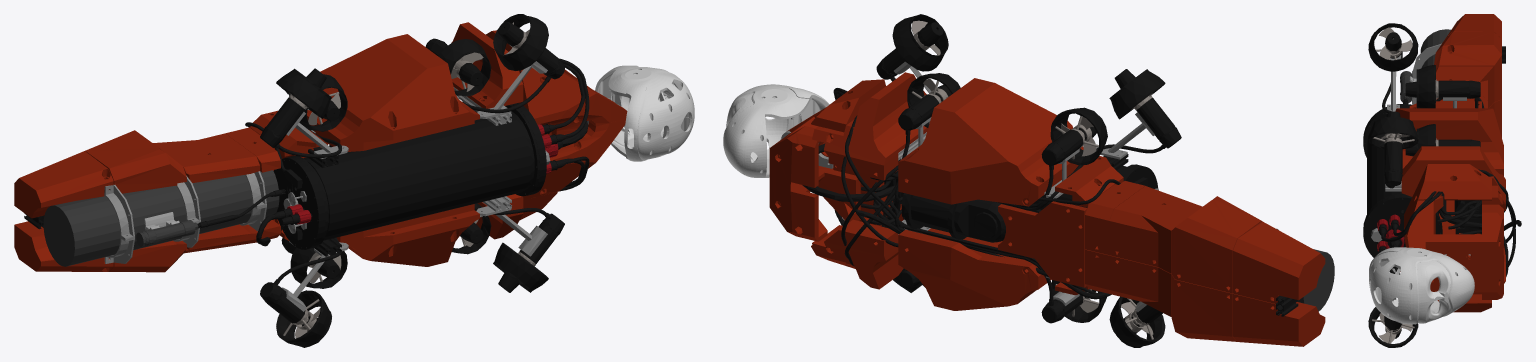
Rendered from body_paint_no_lamp.obj.
3 renders of one model, left to right at view 1: azimuth 30°, elevation 25°; view 2: azimuth 150°, elevation 25°; view 3: azimuth 270°, elevation 25°, orthographic. The views are drawn at different scales.
Visible parts, largest first — view 1: Robot_-_Prevco_Cylinder_Assembly_24-1_Prevco_Cylinder_24-1.001, Robot_-_Chassis-1_MirrorBody_foam_(mid-right-front-full-wit.000, Robot_-_Chassis-1_Battery_Asm-1_subCtech_Li_Ion_Battery-2.001, head.003_head.004, Robot_-_Chassis-1_Body_foam_(mid-right-front-full-with-btm).000, Robot_-_Chassis-1_MirrorTail_foam_(end-right)-3.001, Robot_-_Chassis-1_MirrorTail_foam_(mid-right)-2.001, Robot_-_Arm_frame-4_MirrorShoulder_foam_(top-right-mod)-2.001, Robot_-_Chassis-1_MirrorTail_foam_(front-right)-3.001, Robot_-_Prevco_Cylinder_Assembly_24-1_Prevco_Cylinder_Cap_B.004, Robot_-_Arm_frame-4_Shoulder_foam_(top-right-mod)-1.001, Robot_-_Chassis-1_MirrorBody_foam_(front-right-full)-2.001 (+23 smaller); view 2: Robot_-_Chassis-1_MirrorBody_foam_(mid-right-front-full-wit.000, Robot_-_Chassis-1_Body_foam_(mid-right-front-full-with-btm).000, head.003_head.004, Robot_-_Chassis-1_MirrorBody_foam_(front-right-full)-2.001, Robot_-_Chassis-1_MirrorTail_foam_(end-right)-3.001, Robot_-_Chassis-1_MirrorTail_foam_(mid-right)-2.001, Robot_-_Chassis-1_Body_foam_(bottom)-1.001, Robot_-_Arm_frame-4_Shoulder_foam_(bottom)-1.001, Robot_-_Chassis-1_MirrorTail_foam_(front-right)-3.001, Robot_-_Chassis-1_Tail_foam_(end-right)-2.001, Robot_-_Chassis-1_Body_foam_(front-right-full)-1.001, Robot_-_Chassis-1_Tail_foam_(mid-right)-1.001 (+26 smaller); view 3: head.003_head.004, Robot_-_Chassis-1_MirrorBody_foam_(mid-right-front-full-wit.000, Robot_-_Chassis-1_MirrorBody_foam_(front-right-full)-2.001, Robot_-_Chassis-1_MirrorTail_foam_(mid-right)-2.001, Robot_-_Arm_frame-4_MirrorShoulder_foam_(side-right)-2.001, Robot_-_Arm_frame-4_Shoulder_foam_(bottom)-1.001, Robot_-_Arm_frame-4_Shoulder_foam_(front)-1.001, Robot_-_Arm_frame-4_MirrorShoulder_foam_(top-right-mod)-2.001, Robot_-_Prevco_Cylinder_Assembly_24-1_Prevco_Cylinder_Cap_F.001, Robot_-_Prevco_Cylinder_Assembly_24-1_Prevco_Cylinder_24-1.001, Robot_-_Chassis-1_MirrorTail_foam_(front-right)-3.001, Robot_-_Model_560_Thruster,_1-Atmosphere,_Saddle_Mount,_Al_.157 (+31 smaller).
Boxes of the visible parts, x1=… form: Robot_-_Prevco_Cylinder_Assembly_24-1_Prevco_Cylinder_24-1.001: x1=291, y1=104, x2=539, y2=246; Robot_-_Chassis-1_MirrorBody_foam_(mid-right-front-full-wit.000: x1=307, y1=34, x2=479, y2=151; Robot_-_Chassis-1_Battery_Asm-1_subCtech_Li_Ion_Battery-2.001: x1=43, y1=170, x2=279, y2=266; head.003_head.004: x1=595, y1=65, x2=694, y2=161; Robot_-_Chassis-1_Body_foam_(mid-right-front-full-with-btm).000: x1=336, y1=204, x2=479, y2=266; Robot_-_Chassis-1_MirrorTail_foam_(end-right)-3.001: x1=14, y1=151, x2=113, y2=218; Robot_-_Chassis-1_MirrorTail_foam_(mid-right)-2.001: x1=85, y1=130, x2=186, y2=193; Robot_-_Arm_frame-4_MirrorShoulder_foam_(top-right-mod)-2.001: x1=518, y1=72, x2=627, y2=135; Robot_-_Chassis-1_MirrorTail_foam_(front-right)-3.001: x1=153, y1=133, x2=259, y2=183; Robot_-_Prevco_Cylinder_Assembly_24-1_Prevco_Cylinder_Cap_B.004: x1=273, y1=156, x2=325, y2=249; Robot_-_Arm_frame-4_Shoulder_foam_(top-right-mod)-1.001: x1=523, y1=117, x2=626, y2=199; Robot_-_Chassis-1_MirrorBody_foam_(front-right-full)-2.001: x1=451, y1=22, x2=523, y2=108; Robot_-_Chassis-1_MirrorBody_foam_(mid-right-front-full-wit.000: x1=898, y1=78, x2=1084, y2=206; Robot_-_Chassis-1_Body_foam_(mid-right-front-full-with-btm).000: x1=898, y1=228, x2=1051, y2=310; head.003_head.004: x1=723, y1=84, x2=829, y2=177; Robot_-_Chassis-1_MirrorBody_foam_(front-right-full)-2.001: x1=812, y1=72, x2=927, y2=180; Robot_-_Chassis-1_MirrorTail_foam_(end-right)-3.001: x1=1233, y1=221, x2=1325, y2=303; Robot_-_Chassis-1_MirrorTail_foam_(mid-right)-2.001: x1=1171, y1=196, x2=1261, y2=293; Robot_-_Chassis-1_Body_foam_(bottom)-1.001: x1=998, y1=201, x2=1087, y2=287; Robot_-_Arm_frame-4_Shoulder_foam_(bottom)-1.001: x1=769, y1=126, x2=827, y2=241; Robot_-_Chassis-1_MirrorTail_foam_(front-right)-3.001: x1=1109, y1=186, x2=1202, y2=273; Robot_-_Chassis-1_Tail_foam_(end-right)-2.001: x1=1233, y1=293, x2=1325, y2=346; Robot_-_Chassis-1_Body_foam_(front-right-full)-1.001: x1=812, y1=204, x2=903, y2=289; Robot_-_Chassis-1_Tail_foam_(mid-right)-1.001: x1=1171, y1=275, x2=1237, y2=341; head.003_head.004: x1=1369, y1=247, x2=1474, y2=324; Robot_-_Chassis-1_MirrorBody_foam_(mid-right-front-full-wit.000: x1=1395, y1=108, x2=1503, y2=175; Robot_-_Chassis-1_MirrorBody_foam_(front-right-full)-2.001: x1=1401, y1=146, x2=1505, y2=210; Robot_-_Chassis-1_MirrorTail_foam_(mid-right)-2.001: x1=1434, y1=31, x2=1501, y2=102; Robot_-_Arm_frame-4_MirrorShoulder_foam_(side-right)-2.001: x1=1417, y1=164, x2=1491, y2=200; Robot_-_Arm_frame-4_Shoulder_foam_(bottom)-1.001: x1=1482, y1=204, x2=1503, y2=299; Robot_-_Arm_frame-4_Shoulder_foam_(front)-1.001: x1=1433, y1=234, x2=1481, y2=294; Robot_-_Arm_frame-4_MirrorShoulder_foam_(top-right-mod)-2.001: x1=1404, y1=186, x2=1443, y2=251; Robot_-_Prevco_Cylinder_Assembly_24-1_Prevco_Cylinder_Cap_F.001: x1=1363, y1=195, x2=1442, y2=268; Robot_-_Prevco_Cylinder_Assembly_24-1_Prevco_Cylinder_24-1.001: x1=1363, y1=106, x2=1441, y2=224; Robot_-_Chassis-1_MirrorTail_foam_(front-right)-3.001: x1=1436, y1=66, x2=1493, y2=108; Robot_-_Model_560_Thruster,_1-Atmosphere,_Saddle_Mount,_Al_.157: x1=1368, y1=117, x2=1418, y2=149.
Bounding box in the file's own units: 1.91 × 0.8057 × 0.5016.
